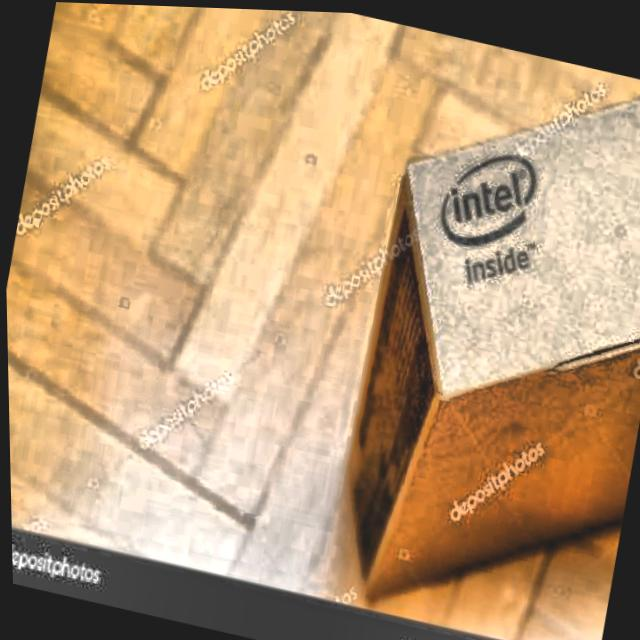Cardbox: (287, 16, 640, 640)
